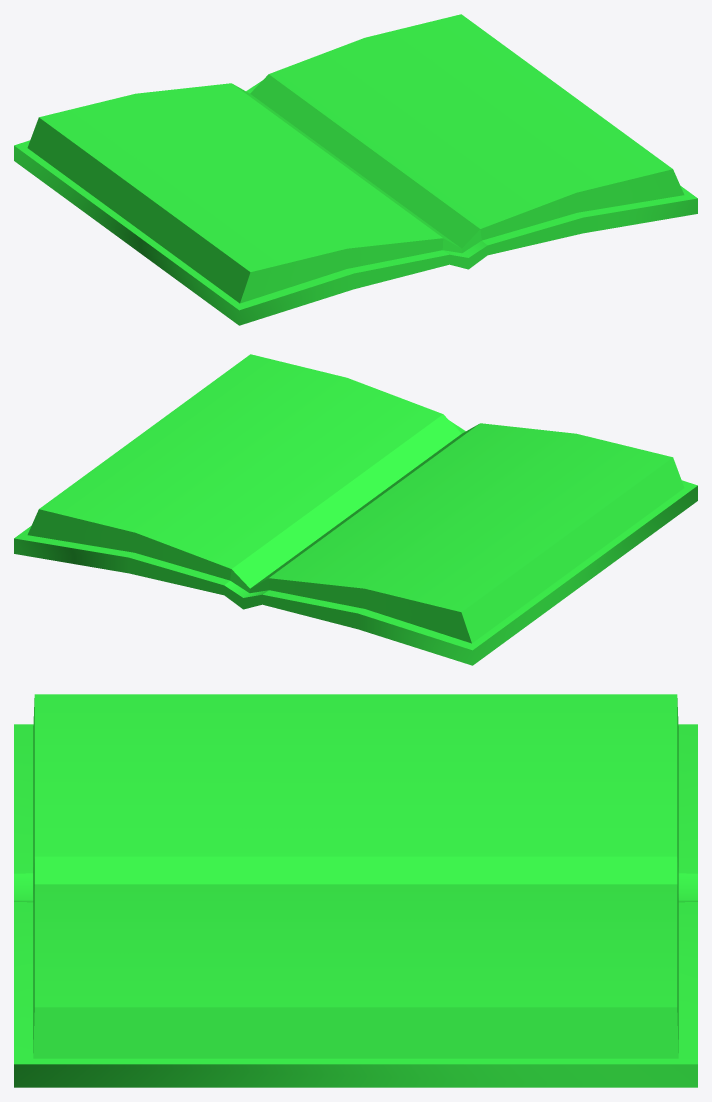
Rendered from Book.fbx.
3 views of the same model, one above another, from view 1: azimuth 30°, elevation 25°; view 2: azimuth 150°, elevation 25°; view 3: azimuth 270°, elevation 25° (orthographic). The views are drawn at different scales.
Parts seen in each view (by area): view 1: BookOpen_pending; view 2: BookOpen_pending; view 3: BookOpen_pending.
Part boxes in pixels (x1,y1,x2,y2): BookOpen_pending: (14, 14, 697, 325); BookOpen_pending: (14, 354, 697, 665); BookOpen_pending: (14, 694, 697, 1087).
Bounding box in the file's own units: 635 × 58.39 × 540.
